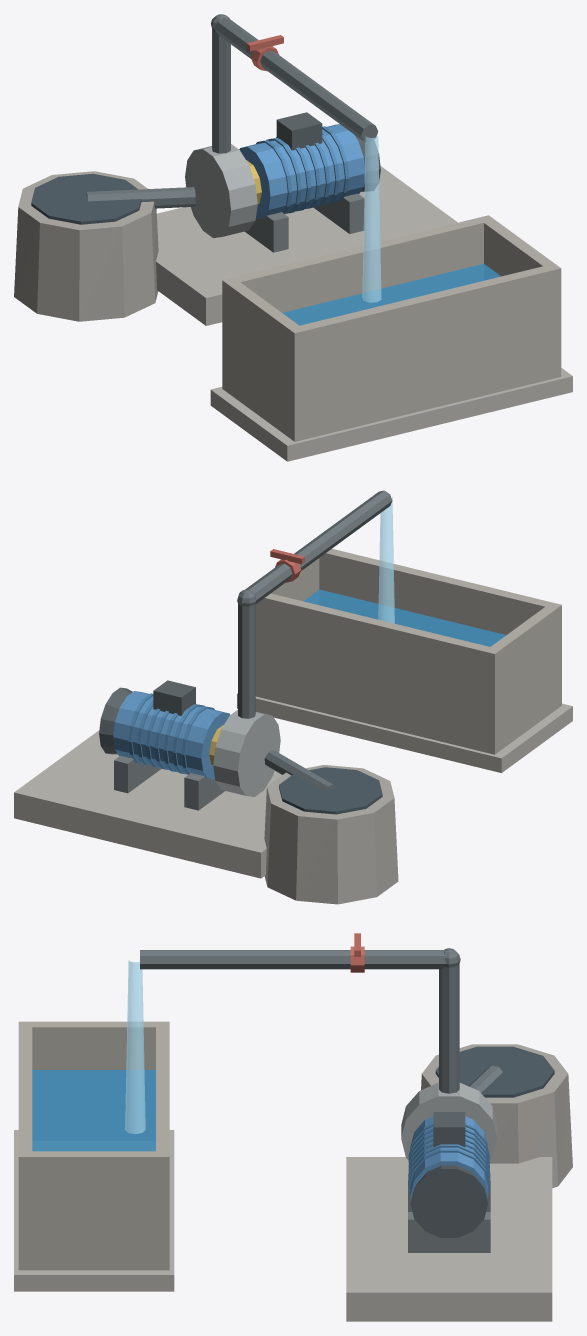
Rendered from pump.glb.
3 renders of one model, top to bottom at view 1: azimuth 30°, elevation 25°; view 2: azimuth 150°, elevation 25°; view 3: azimuth 270°, elevation 25°, orthographic. The views are drawn at different scales.
Parts seen in each view (by area): view 1: body, water, stream; view 2: body, water, stream; view 3: body, water, stream.
Part boxes in pixels (left/top/right/bottom): body: left=14, top=14, right=572, bottom=461; water: left=282, top=263, right=500, bottom=325; stream: left=362, top=135, right=381, bottom=302; body: left=14, top=490, right=572, bottom=904; water: left=303, top=589, right=506, bottom=646; stream: left=378, top=497, right=394, bottom=623; body: left=14, top=933, right=572, bottom=1321; water: left=32, top=1070, right=155, bottom=1151; stream: left=125, top=960, right=145, bottom=1134.
Size of the model in its own units: 1.97 by 1.36 by 2.44.
